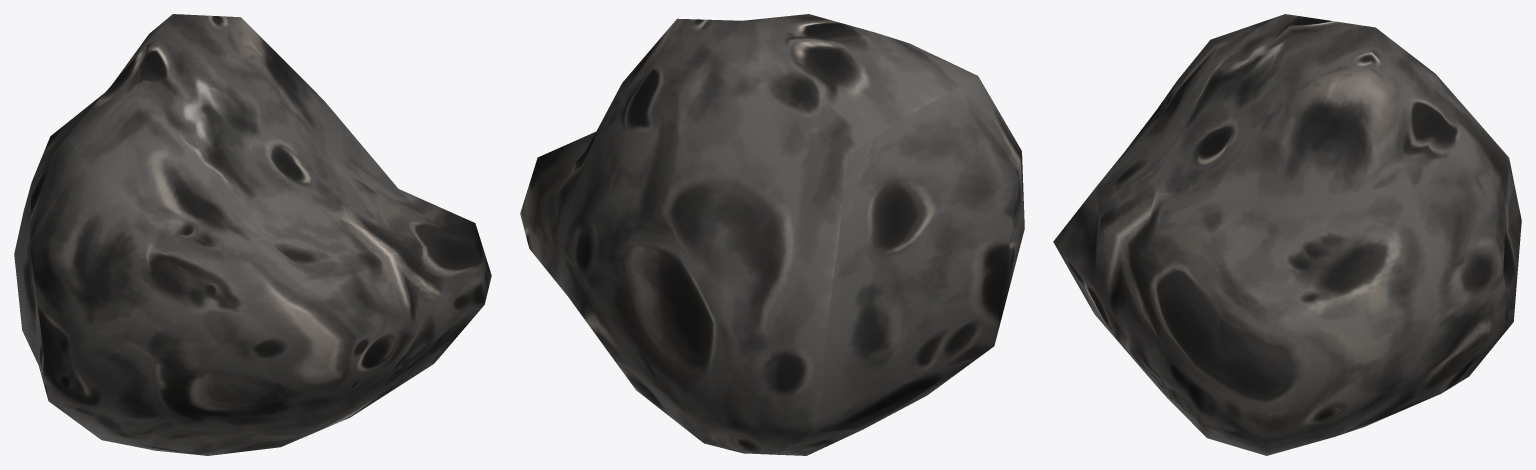
The model's file is asteroide2.fbx.
3 views of the same model, side by side, from view 1: azimuth 30°, elevation 25°; view 2: azimuth 150°, elevation 25°; view 3: azimuth 270°, elevation 25° (orthographic). The views are drawn at different scales.
Parts seen in each view (by area): view 1: asteroide2; view 2: asteroide2; view 3: asteroide2.
Part boxes in pixels (x1,y1,x2,y2): asteroide2: (14,14,491,455); asteroide2: (520,14,1024,455); asteroide2: (1053,14,1521,455).
Bounding box in the file's own units: 1.21 × 0.9772 × 1.07.
